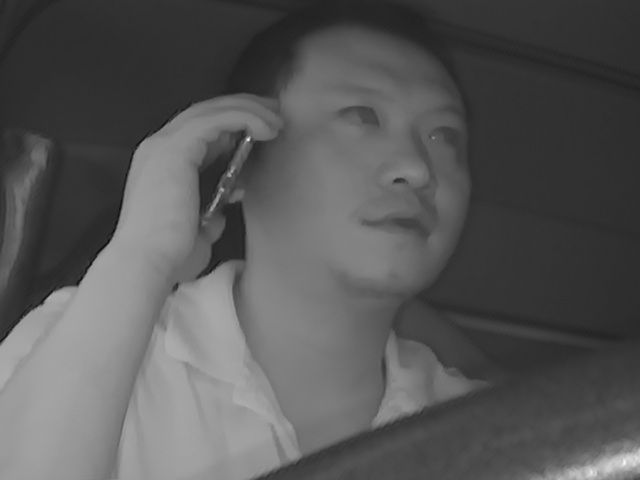hand: (116, 92, 240, 273)
